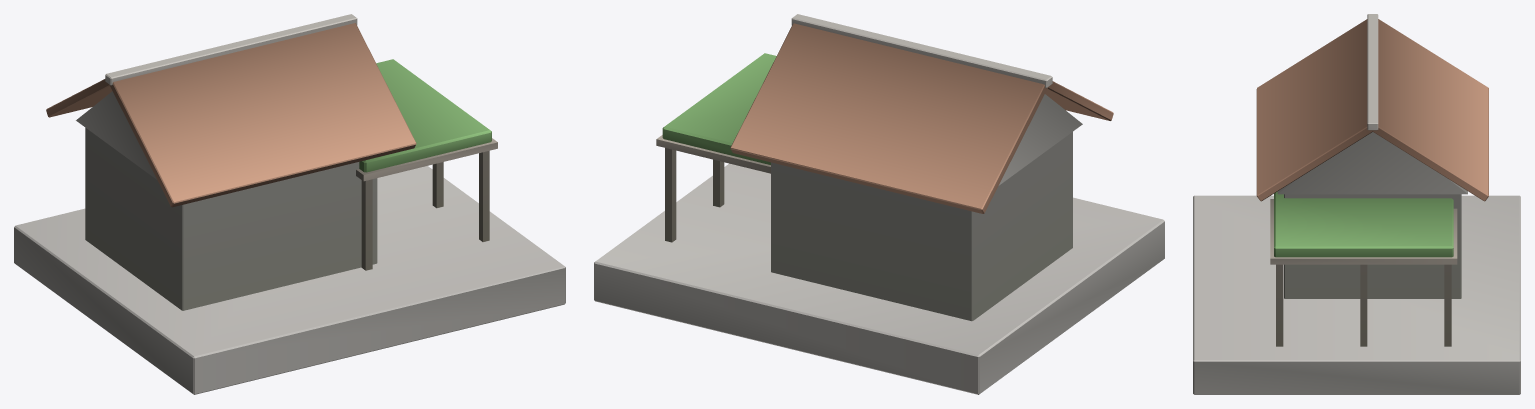
Rendered from vineyard_l1_lod2.glb.
3 views of the same model, side by side, from view 1: azimuth 30°, elevation 25°; view 2: azimuth 150°, elevation 25°; view 3: azimuth 270°, elevation 25° (orthographic). The views are drawn at different scales.
Parts seen in each view (by area): view 1: vineyard_l1_lod2; view 2: vineyard_l1_lod2; view 3: vineyard_l1_lod2.
Part boxes in pixels (x1,y1,x2,y2): vineyard_l1_lod2: [14, 14, 565, 394]; vineyard_l1_lod2: [594, 14, 1164, 394]; vineyard_l1_lod2: [1193, 14, 1520, 394].
Size of the model in its own units: 8.6 by 5.38 by 7.2.
